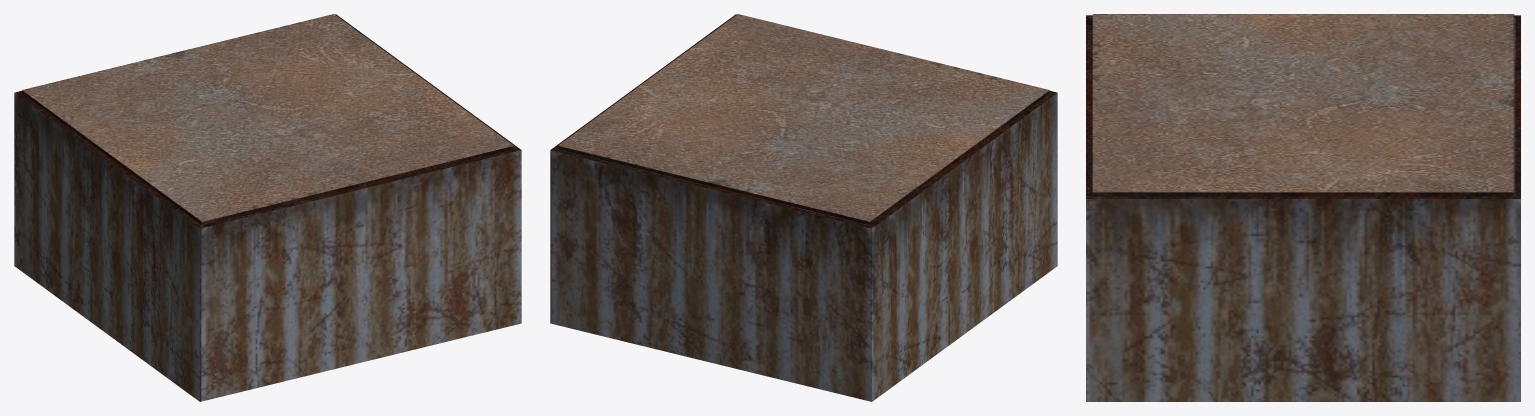
The model's file is metal_foundation_square_mid_textured.glb.
The picture shows the model from 3 angles, left to right: view 1: azimuth 30°, elevation 25°; view 2: azimuth 150°, elevation 25°; view 3: azimuth 270°, elevation 25°; orthographic projection. The views are drawn at different scales.
Visible parts, largest first — view 1: Cube.001; view 2: Cube.001; view 3: Cube.001.
Boxes of the visible parts, x1,y1,x2,y2 form: Cube.001: [14, 14, 521, 401]; Cube.001: [550, 14, 1057, 401]; Cube.001: [1086, 14, 1520, 401].
Bounding box in the file's own units: 2 × 1.05 × 2.
1 material, 1 textured.
